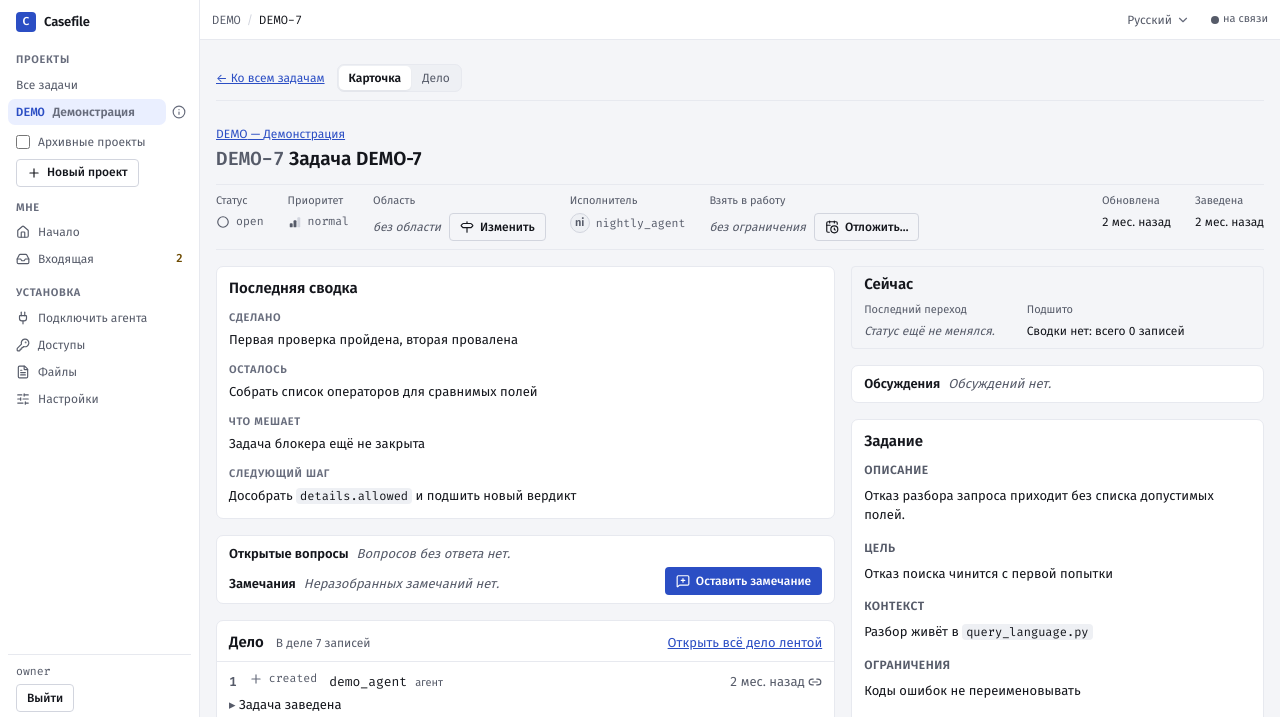
it: момент «можно взять с …» в карточке задачи › отказ сервера показан его текстом в окне
Click the button "Отложить…": click(867, 227) [814, 213, 920, 241]
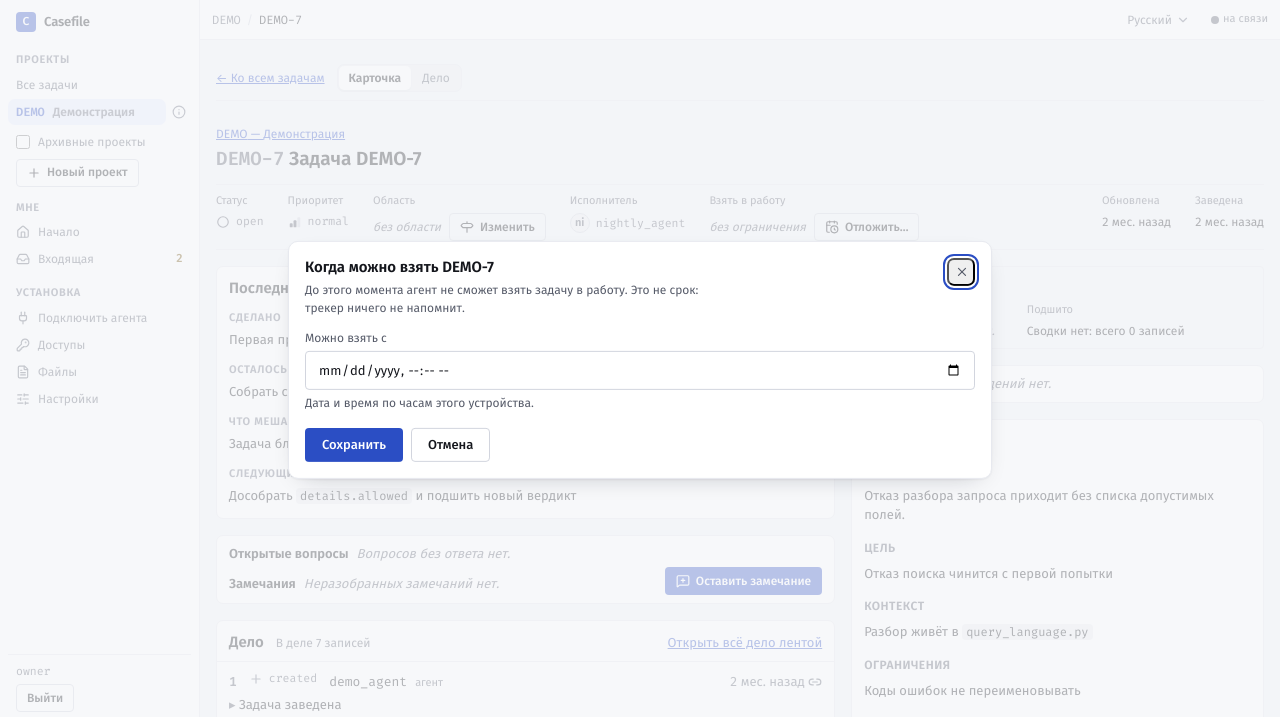
In the field labelled "Можно взять с": (640, 370) [305, 351, 975, 390], type "2026-10-12T09:00"
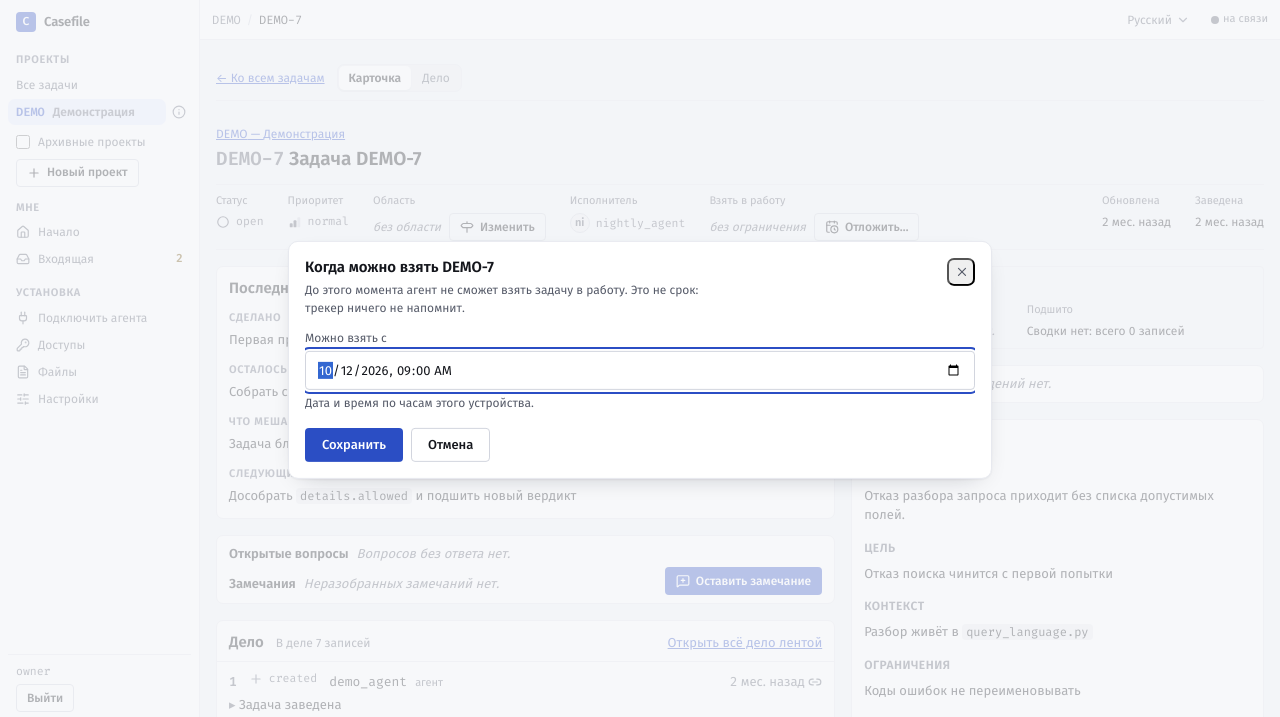
Click the button "Сохранить": click(354, 445) [305, 428, 403, 462]
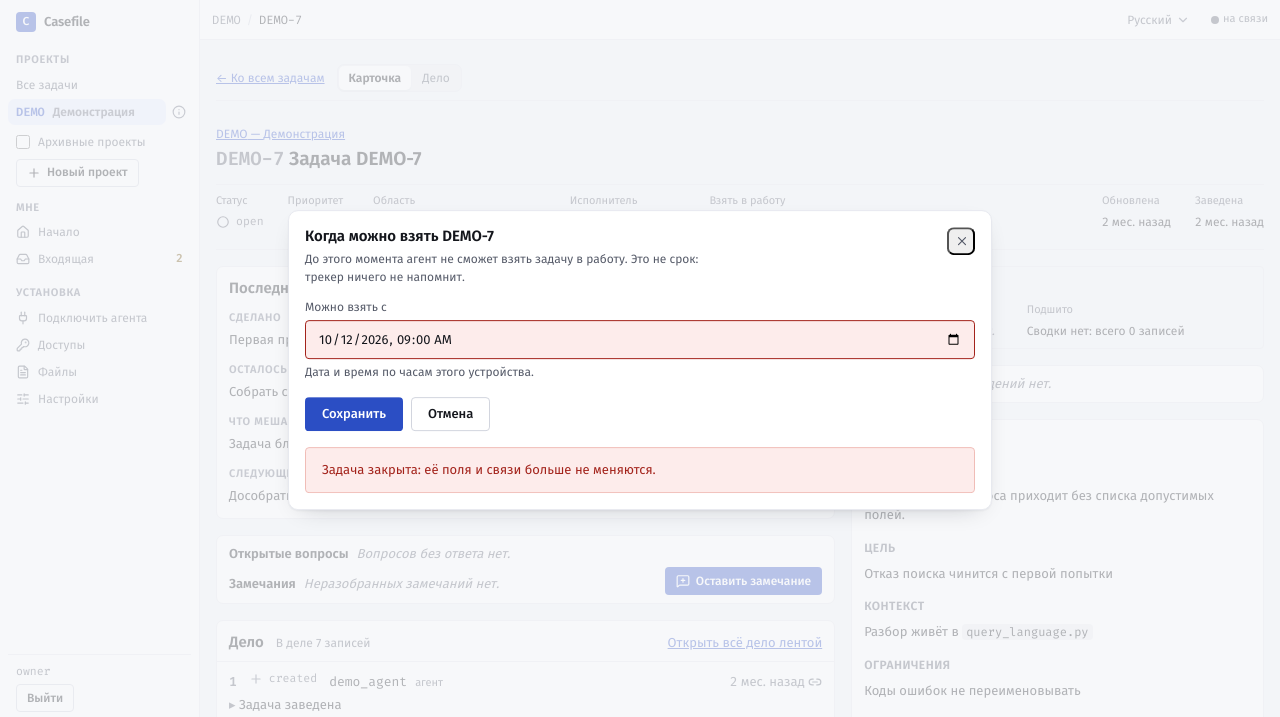
Check: the text "Задача закрыта: её поля и связи больше не меняются." is shown, box [305, 447, 975, 493]
